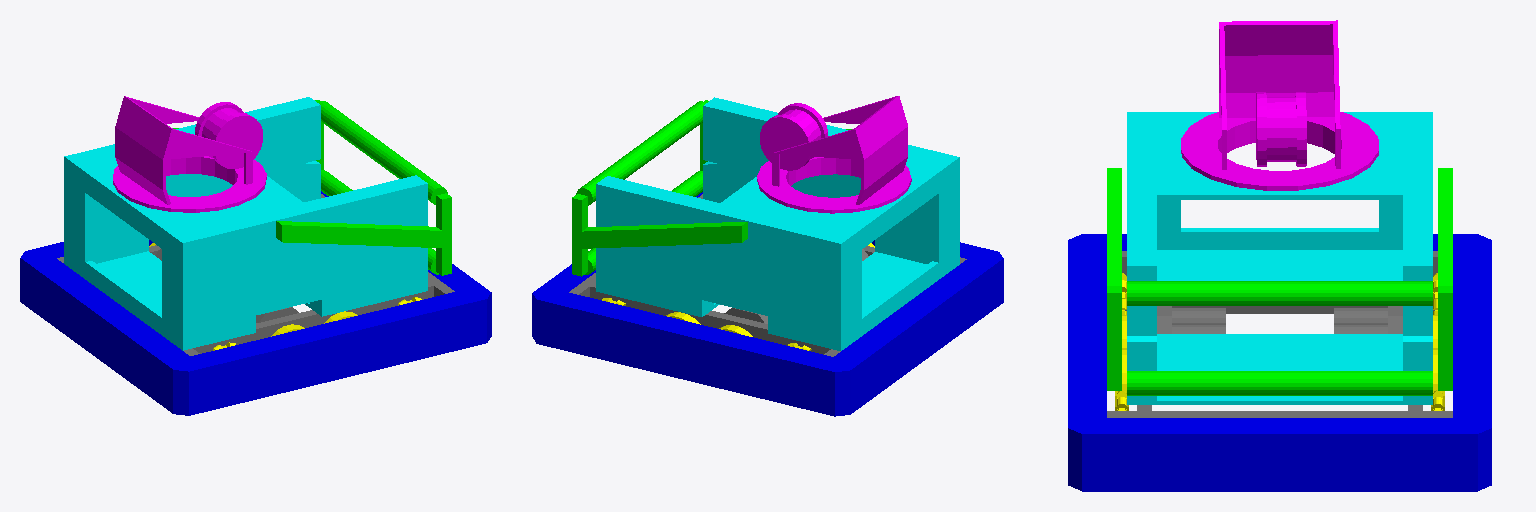
robot.urdf — kobe_description:
<?xml version="1.0" encoding="utf-8"?>
<!-- This URDF was automatically created by SolidWorks to URDF Exporter! Originally created by [author] ([email redacted]) 
     Commit Version: 1.5.1-0-g916b5db  Build Version: 1.5.7152.31018
     For more information, please see http://wiki.ros.org/sw_urdf_exporter -->
<robot
  name="kobe_description">

	<link name="base_footprint"/>

  <link name="base_link">
    <inertial>
      <origin xyz="0 0 0" rpy="0 0 0" />
      <mass value="20.0" />
      <inertia
        ixx="0.1"
        ixy="0"
        ixz="0"
        iyy="0.1"
        iyz="0"
        izz="0.1" />
    </inertial>
    <visual>
      <origin xyz="0 0 0" rpy="0 0 0" />
      <geometry>
        <mesh filename="package://kobe_description/meshes/base_link.STL" />
      </geometry>
      <material name="grey">
        <color rgba="0.5 0.5 0.5 1" />
      </material>
    </visual>
    <collision>
      <origin xyz="0 0 0" rpy="0 0 0" />
      <geometry>
        <mesh filename="package://kobe_description/meshes/base_link.STL" />
      </geometry>
    </collision>
  </link>
	<joint name="footprint_to_base" type="fixed">
    <origin xyz="0 0 0.025" rpy="0 0 1.5708" /> <!-- 0.025 is the height between the floor and bottom of drive (not real, but from model) -->
    <parent link="base_footprint" />
    <child link="base_link" />
  </joint>

  <link name="bumpers">
    <inertial>
      <origin xyz="0 0 0" rpy="0 0 0" />
      <mass value="2" />
      <inertia
        ixx="1"
        ixy="0"
        ixz="0"
        iyy="1"
        iyz="0"
        izz="1" />
    </inertial>
    <visual>
      <origin xyz="-0.43 0.48 0" rpy="1.5708 0 0" />
      <geometry>
        <mesh filename="package://kobe_description/meshes/bumpers.STL" scale="0.001 0.001 0.001"/>
      </geometry>
      <material name="blue">
        <color rgba="0 0 1 0.6" />
      </material>
    </visual>
    <collision>
      <origin xyz="0 0 0" rpy="0 0 0" />
      <geometry>
        <mesh filename="package://kobe_description/meshes/bumpers.STL" />
      </geometry>
    </collision>
  </link>
  <joint name="base_to_bumpers" type="fixed">
    <origin xyz="0 0 0" rpy="0 0 0" />
    <parent link="base_link" />
    <child link="bumpers" />
  </joint>

  <link name="wheel_driving_left_front">
    <inertial>
      <origin xyz="-0.015 0 0" rpy="0 0 0" />
      <mass value="0.32" />
      <inertia
        ixx="0.001"
        ixy="0"
        ixz="0"
        iyy="0.001"
        iyz="0"
        izz="0.001" />
    </inertial>
    <visual>
      <origin xyz="-0.015 0 0" rpy="0 0 0" />
      <geometry>
        <mesh filename="package://kobe_description/meshes/wheel_driving.STL" />
      </geometry>
      <material name="yellow">
        <color rgba="1 1 0 1" />
      </material>
    </visual>
    <collision>
      <origin xyz="0.01 0 0" rpy="0 0 0" />
      <geometry>
        <mesh filename="package://kobe_description/meshes/wheel_driving.STL" />
      </geometry>
    </collision>
  </link>
  <joint name="base_to_driving_left_front" type="continuous">
    <origin xyz="0.32 -0.08 0.05" rpy="0 0 0" />
    <parent link="base_link" />
    <child link="wheel_driving_left_front" />
    <axis xyz="1 0 0" />
  </joint>

  <link name="wheel_driving_left_rear">
    <inertial>
      <origin xyz="-0.015 0 0" rpy="0 0 0" />
      <mass value="0.32" />
      <inertia
        ixx="0.001"
        ixy="0"
        ixz="0"
        iyy="0.001"
        iyz="0"
        izz="0.001" />
    </inertial>
    <visual>
      <origin xyz="-0.015 0 0" rpy="0 0 0" />
      <geometry>
        <mesh filename="package://kobe_description/meshes/wheel_driving.STL" />
      </geometry>
      <material name="">
        <color rgba="1 1 0 1" />
      </material>
    </visual>
    <collision>
      <origin xyz="0 0 0" rpy="0 0 0" />
      <geometry>
        <mesh filename="package://kobe_description/meshes/wheel_driving.STL" />
      </geometry>
    </collision>
  </link>
  <joint name="base_to_driving_left_rear" type="continuous">
    <origin xyz="0.32 0.08 0.05" rpy="0 0 0" />
    <parent link="base_link" />
    <child link="wheel_driving_left_rear" />
    <axis xyz="1 0 0" />
  </joint>

  <link name="wheel_omni_left_front">
    <inertial>
      <origin xyz="-0.01 0 0" rpy="0 0 0" />
      <mass value="0.32" />
      <inertia
        ixx="0.001"
        ixy="0"
        ixz="0"
        iyy="0.001"
        iyz="0"
        izz="0.001" />
    </inertial>
    <visual>
      <origin xyz="-0.01 0 0" rpy="0 0 0" />
      <geometry>
        <mesh filename="package://kobe_description/meshes/wheel_omni.STL" />
      </geometry>
      <material name="">
        <color rgba="1 1 0 1" />
      </material>
    </visual>
    <collision>
      <origin xyz="0 0 0" rpy="0 0 0" />
      <geometry>
        <mesh filename="package://kobe_description/meshes/wheel_omni.STL" />
      </geometry>
    </collision>
  </link>
  <joint
    name="base_to_omni_left_front"
    type="continuous">
    <origin xyz="0.32 -0.28 0.05" rpy="0 0 0" />
    <parent link="base_link" />
    <child link="wheel_omni_left_front" />
    <axis xyz="1 0 0" />
  </joint>

  <link
    name="wheel_omni_left_rear">
    <inertial>
      <origin
        xyz="-0.01 0 0"
        rpy="0 0 0" />
      <mass
        value="0.32" />
      <inertia
        ixx="0.001"
        ixy="0"
        ixz="0"
        iyy="0.001"
        iyz="0"
        izz="0.001" />
    </inertial>
    <visual>
      <origin
        xyz="-0.01 0 0"
        rpy="0 0 0" />
      <geometry>
        <mesh
          filename="package://kobe_description/meshes/wheel_omni.STL" />
      </geometry>
      <material
        name="">
        <color
          rgba="1 1 0 1" />
      </material>
    </visual>
    <collision>
      <origin
        xyz="0 0 0"
        rpy="0 0 0" />
      <geometry>
        <mesh
          filename="package://kobe_description/meshes/wheel_omni.STL" />
      </geometry>
    </collision>
  </link>
  <joint
    name="base_to_omni_left_rear"
    type="continuous">
    <origin
      xyz="0.32 0.28 0.05"
      rpy="0 0 0" />
    <parent
      link="base_link" />
    <child
      link="wheel_omni_left_rear" />
    <axis
      xyz="1 0 0" />
  </joint>

  <link
    name="wheel_omni_right_rear">
    <inertial>
      <origin
        xyz="-0.01 0 0"
        rpy="0 0 0" />
      <mass
        value="0.32" />
      <inertia
        ixx="0.001"
        ixy="0"
        ixz="0"
        iyy="0.001"
        iyz="0"
        izz="0.001" />
    </inertial>
    <visual>
      <origin
        xyz="-0.01 0 0"
        rpy="0 0 0" />
      <geometry>
        <mesh
          filename="package://kobe_description/meshes/wheel_omni.STL" />
      </geometry>
      <material
        name="">
        <color
          rgba="1 1 0 1" />
      </material>
    </visual>
    <collision>
      <origin
        xyz="0 0 0"
        rpy="0 0 0" />
      <geometry>
        <mesh
          filename="package://kobe_description/meshes/wheel_omni.STL" />
      </geometry>
    </collision>
  </link>
  <joint
    name="base_to_omni_right_rear"
    type="continuous">
    <origin
      xyz="-0.32 0.28 0.05"
      rpy="0 0 0" />
    <parent
      link="base_link" />
    <child
      link="wheel_omni_right_rear" />
    <axis
      xyz="1 0 0" />
  </joint>

  <link
    name="wheel_omni_right_front">
    <inertial>
      <origin
        xyz="-0.01 0 0"
        rpy="0 0 0" />
      <mass
        value="0.32" />
      <inertia
        ixx="0.001"
        ixy="0"
        ixz="0"
        iyy="0.001"
        iyz="0"
        izz="0.001" />
    </inertial>
    <visual>
      <origin
        xyz="-0.01 0 0"
        rpy="0 0 0" />
      <geometry>
        <mesh
          filename="package://kobe_description/meshes/wheel_omni.STL" />
      </geometry>
      <material
        name="">
        <color
          rgba="1 1 0 1" />
      </material>
    </visual>
    <collision>
      <origin
        xyz="0 0 0"
        rpy="0 0 0" />
      <geometry>
        <mesh
          filename="package://kobe_description/meshes/wheel_omni.STL" />
      </geometry>
    </collision>
  </link>
  <joint
    name="base_to_omni_right_front"
    type="continuous">
    <origin
      xyz="-0.32 -0.28 0.05"
      rpy="0 0 0" />
    <parent
      link="base_link" />
    <child
      link="wheel_omni_right_front" />
    <axis
      xyz="1 0 0" />
  </joint>

  <link
    name="wheel_driving_right_rear">
    <inertial>
      <origin
        xyz="-0.015 0 0"
        rpy="0 0 0" />
      <mass
        value="0.32" />
      <inertia
        ixx="0.001"
        ixy="0"
        ixz="0"
        iyy="0.001"
        iyz="0"
        izz="0.001" />
    </inertial>
    <visual>
      <origin
        xyz="-0.015 0 0"
        rpy="0 0 0" />
      <geometry>
        <mesh
          filename="package://kobe_description/meshes/wheel_driving.STL" />
      </geometry>
      <material
        name="">
        <color
          rgba="1 1 0 1" />
      </material>
    </visual>
    <collision>
      <origin
        xyz="0 0 0"
        rpy="0 0 0" />
      <geometry>
        <mesh
          filename="package://kobe_description/meshes/wheel_driving.STL" />
      </geometry>
    </collision>
  </link>
  <joint
    name="base_to_driving_right_rear"
    type="continuous">
    <origin
      xyz="-0.32 0.08 0.05"
      rpy="0 0 0" />
    <parent
      link="base_link" />
    <child
      link="wheel_driving_right_rear" />
    <axis
      xyz="1 0 0" />
  </joint>

  <link
    name="wheel_driving_right_front">
    <inertial>
      <origin
        xyz="-0.015 0 0"
        rpy="0 0 0" />
      <mass
        value="0.32" />
      <inertia
        ixx="0.001"
        ixy="0"
        ixz="0"
        iyy="0.001"
        iyz="0"
        izz="0.001" />
    </inertial>
    <visual>
      <origin
        xyz="-0.015 0 0"
        rpy="0 0 0" />
      <geometry>
        <mesh
          filename="package://kobe_description/meshes/wheel_driving.STL" />
      </geometry>
      <material
        name="">
        <color
          rgba="1 1 0 1" />
      </material>
    </visual>
    <collision>
      <origin
        xyz="0 0 0"
        rpy="0 0 0" />
      <geometry>
        <mesh
          filename="package://kobe_description/meshes/wheel_driving.STL" />
      </geometry>
    </collision>
  </link>
  <joint
    name="base_to_driving_right_front"
    type="continuous">
    <origin
      xyz="-0.32 -0.08 0.05"
      rpy="0 0 0" />
    <parent
      link="base_link" />
    <child
      link="wheel_driving_right_front" />
    <axis
      xyz="1 0 0" />
  </joint>

  <link
    name="main_body">
    <inertial>
      <origin
        xyz="0 0.155 -0.02"
        rpy="0 0 0" />
      <mass
        value="20.0" />
      <inertia
        ixx="2"
        ixy="0"
        ixz="0"
        iyy="4"
        iyz="0"
        izz="2.5" />
    </inertial>
    <visual>
      <origin
        xyz="0 0 0"
        rpy="0 0 0" />
      <geometry>
        <mesh
          filename="package://kobe_description/meshes/main_body.STL" />
      </geometry>
      <material
        name="cyan">
        <color
          rgba="0 1 1 0.6" />
      </material>
    </visual>
    <collision>
      <origin
        xyz="0 0 0"
        rpy="0 0 0" />
      <geometry>
        <mesh
          filename="package://kobe_description/meshes/main_body.STL" />
      </geometry>
    </collision>
  </link>
  <joint
    name="base_to_main_body"
    type="fixed">
    <origin
      xyz="0 0.03 0.128"
      rpy="1.5708 0 0" />
    <parent
      link="base_link" />
    <child
      link="main_body" />
    <axis
      xyz="0 0 0" />
  </joint>

  <link
    name="intake">
    <inertial>
      <origin
        xyz="0 -0.070103 0.25029"
        rpy="0 0 0" />
      <mass
        value="5" />
      <inertia
        ixx="0.1"
        ixy="0"
        ixz="0"
        iyy="0.1"
        iyz="0"
        izz="0.1" />
    </inertial>
    <visual>
      <origin
        xyz="0 0 0"
        rpy="0 0 0" />
      <geometry>
        <mesh
          filename="package://kobe_description/meshes/intake.STL" />
      </geometry>
      <material
        name="green">
        <color
          rgba="0 1 0 1" />
      </material>
    </visual>
    <collision>
      <origin
        xyz="0 0 0"
        rpy="0 0 0" />
      <geometry>
        <mesh
          filename="package://kobe_description/meshes/intake.STL" />
      </geometry>
    </collision>
  </link>
  <joint
    name="main_body_to_intake"
    type="prismatic">
    <origin
      xyz="0 0.25486 0.06829"
      rpy="0 0 0" />
    <parent
      link="main_body" />
    <child
      link="intake" />
    <axis
      xyz="0 0.25882 -0.96593" />
    <limit
      lower="-0.28"
      upper="0"
      effort="0"
      velocity="0" />
  </joint>

  <link
    name="turret">
    <inertial>
      <origin
        xyz="0 0.1 0.03"
        rpy="0 0 0" />
      <mass
        value="3.739" />
      <inertia
        ixx="0.1"
        ixy="0"
        ixz="0"
        iyy="0.1"
        iyz="0"
        izz="0.1" />
    </inertial>
    <visual>
      <origin
        xyz="0 0 0"
        rpy="0 0 0" />
      <geometry>
        <mesh
          filename="package://kobe_description/meshes/turret.STL" />
      </geometry>
      <material
        name="magenta">
        <color
          rgba="1 0 1 1" />
      </material>
    </visual>
    <collision>
      <origin
        xyz="0 0 0"
        rpy="0 0 0" />
      <geometry>
        <mesh
          filename="package://kobe_description/meshes/turret.STL" />
      </geometry>
    </collision>
  </link>
  <joint
    name="main_body_to_turret"
    type="continuous">
    <origin
      xyz="0 0.28 -0.17"
      rpy="0 0.022765 0" />
    <parent
      link="main_body" />
    <child
      link="turret" />
    <axis
      xyz="0 1 0" />
  </joint>

	<link name="reflective_camera"/>    
  <joint
    name="turret_to_camera"
    type="fixed">
    <origin
      xyz="0 0.15 0.25"
      rpy="-2.705 3.1416 0" />
    <parent
      link="turret" />
    <child
      link="reflective_camera" />
  </joint>

</robot>

--- What the picture shows (computed from the rendered views, not written in the file) ---
3 views of the same robot in one strip: view 1: azimuth 30°, elevation 25°; view 2: azimuth 150°, elevation 25°; view 3: azimuth 270°, elevation 25° (orthographic).
Robot: kobe_description — 15 links, 14 joints (9 continuous, 1 prismatic, 4 fixed); root link base_footprint; default pose: all joints at 0.
Visible links, largest first — view 1: main_body, bumpers, turret, intake, base_link; view 2: main_body, bumpers, turret, intake, base_link; view 3: main_body, bumpers, turret, intake, base_link.
Boxes of the visible links, bbox=[...] form: main_body: bbox=[64, 97, 427, 350]; bumpers: bbox=[20, 191, 491, 415]; turret: bbox=[113, 96, 266, 212]; intake: bbox=[173, 100, 451, 275]; base_link: bbox=[57, 194, 454, 355]; main_body: bbox=[596, 97, 959, 350]; bumpers: bbox=[532, 192, 1003, 416]; turret: bbox=[757, 96, 911, 213]; intake: bbox=[572, 100, 851, 276]; base_link: bbox=[569, 194, 966, 356]; main_body: bbox=[1127, 112, 1432, 404]; bumpers: bbox=[1068, 234, 1491, 491]; turret: bbox=[1181, 20, 1378, 190]; intake: bbox=[1107, 168, 1452, 395]; base_link: bbox=[1107, 251, 1452, 417].
Size in the robot's own frame: 0.96 by 0.86 by 0.6994 metres.
13 mesh visuals loaded from 7 distinct referenced files (7 binary STL).
